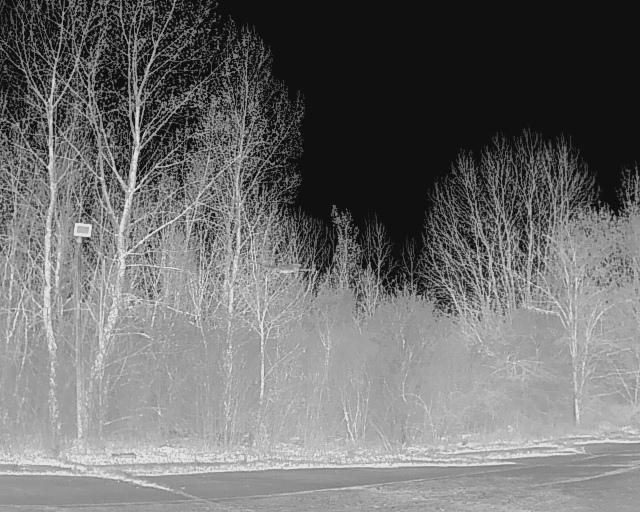drone: (252, 246, 321, 295)
